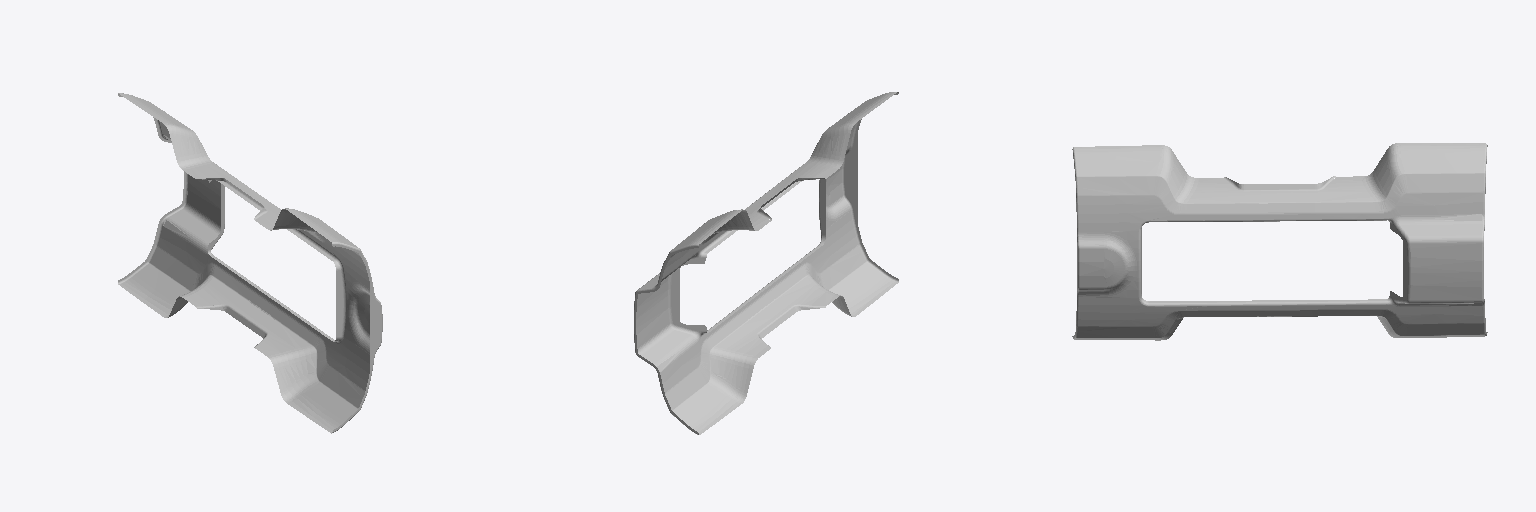
The model's file is top_shell.obj.
The picture shows the model from 3 angles: view 1: azimuth 30°, elevation 25°; view 2: azimuth 150°, elevation 25°; view 3: azimuth 270°, elevation 25°; orthographic projection.
Parts seen in each view (by area): view 1: top_shell; view 2: top_shell; view 3: top_shell.
Part boxes in pixels (x1,y1,x2,y2): top_shell: (118,93,382,433); top_shell: (634,92,898,434); top_shell: (1072,143,1487,340).
Bounding box in the file's own units: 0.1193 × 0.3184 × 0.619.